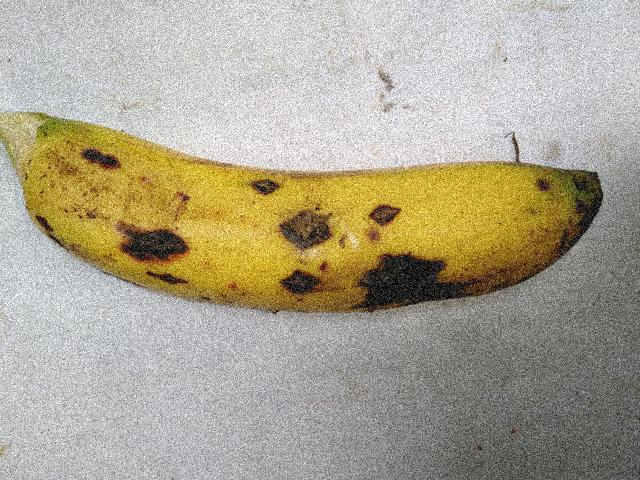rotten: (112, 220, 210, 310), (353, 246, 465, 309), (22, 200, 102, 270), (260, 200, 344, 256), (65, 135, 133, 186), (345, 191, 408, 244), (229, 157, 287, 194), (278, 263, 316, 308)
